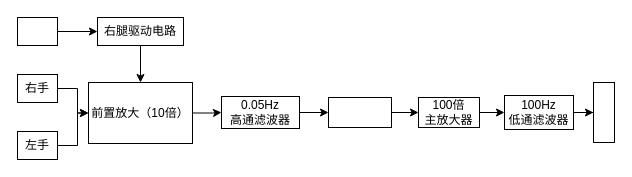
Some shapes in this 632 by 177 pixel diagram are drawn without their labels. The shapes that lost their labels are listed below. From the top down, each one's box as (x1, y1, x2, y2) in pixels, then its label:
(16, 16, 58, 46): 右腿
(328, 96, 392, 128): 50Hz 陷波器
(592, 82, 614, 142): 示波器
